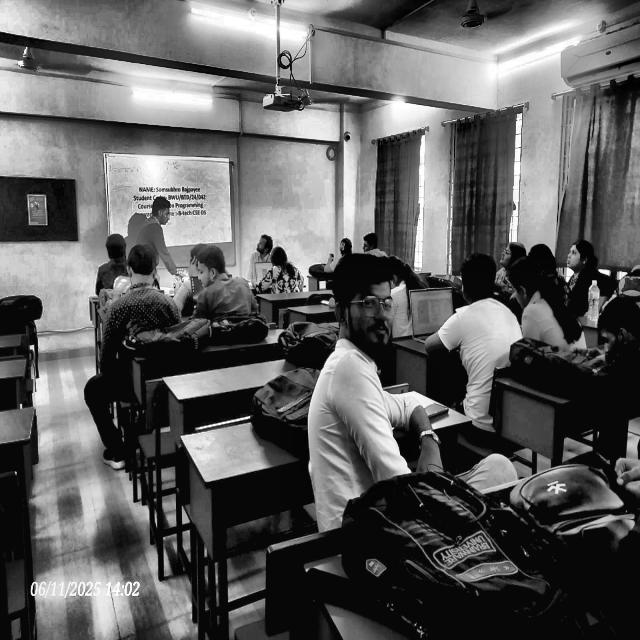Focus: (472, 190, 615, 316), (97, 183, 214, 274), (112, 242, 183, 316), (514, 239, 562, 329), (253, 226, 278, 278)
Not Focus: (328, 236, 468, 456), (311, 223, 418, 290), (191, 224, 250, 318)
